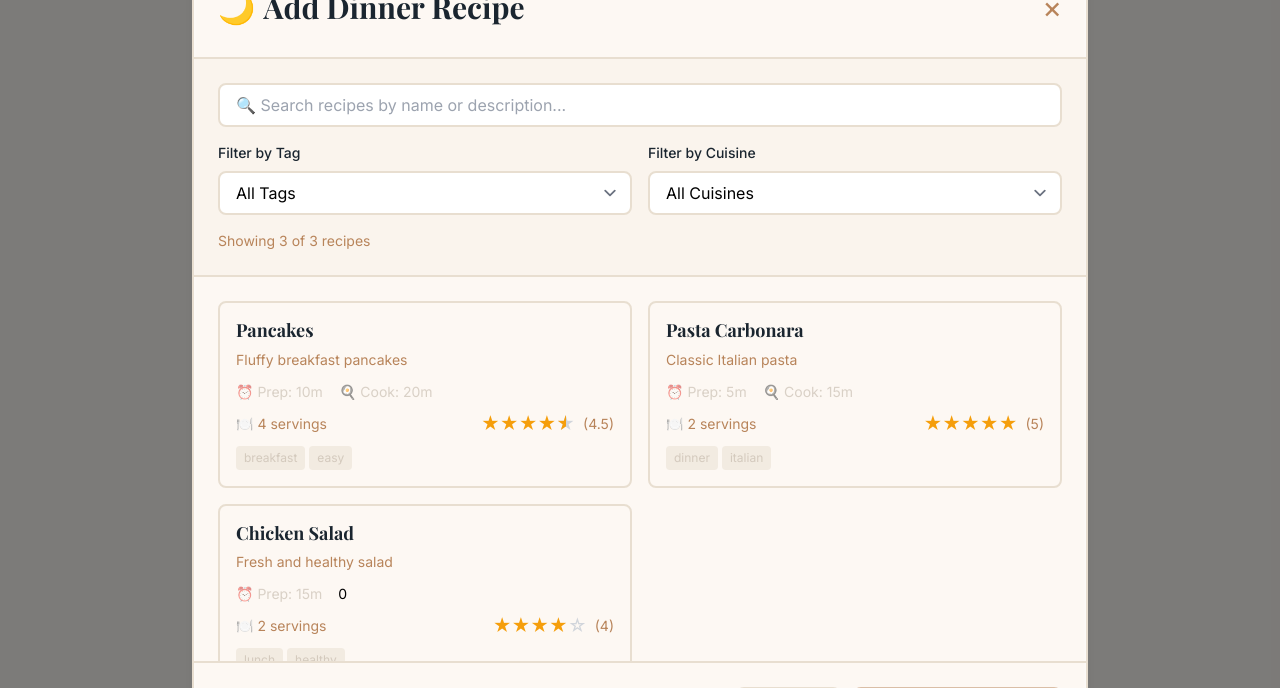
RecipeSelectorModal › clears filters when clear button is clicked
Apply filters
Type "pasta" into the field with placeholder "🔍 Search recipes by name or description..." at (640, 105), box [218, 83, 1062, 127]
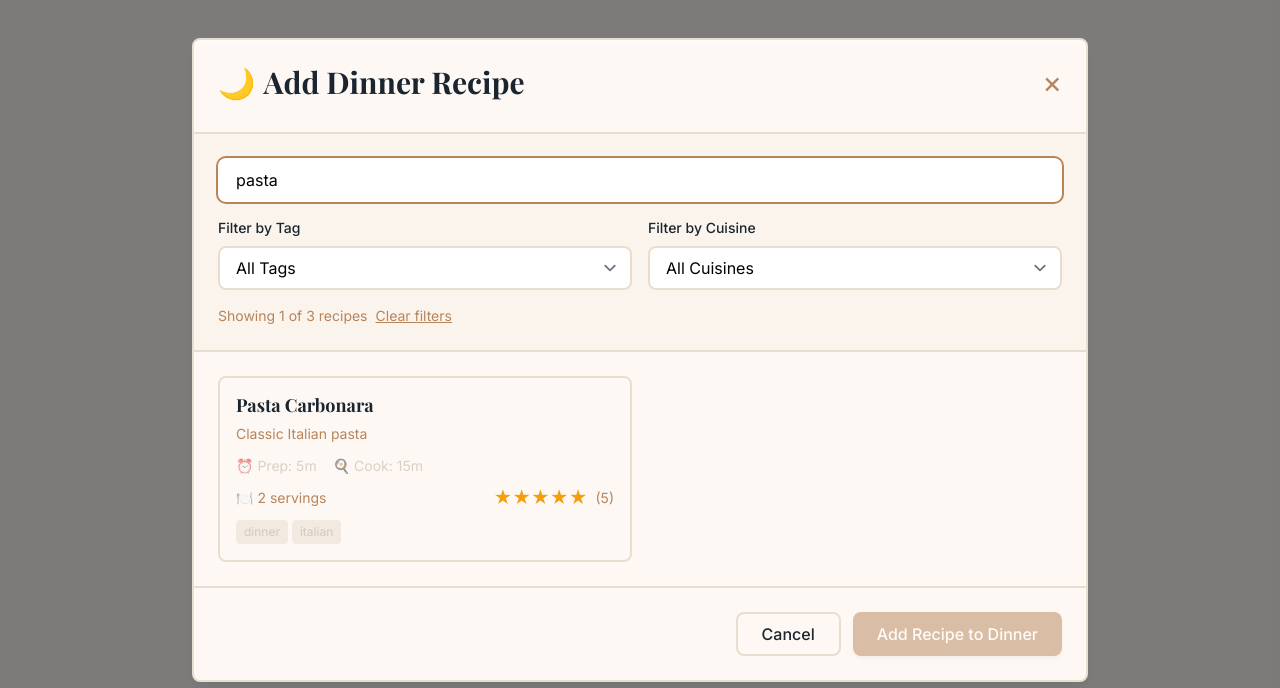
Clear filters
Click the button "Clear filters" at (414, 316), box [376, 306, 452, 326]
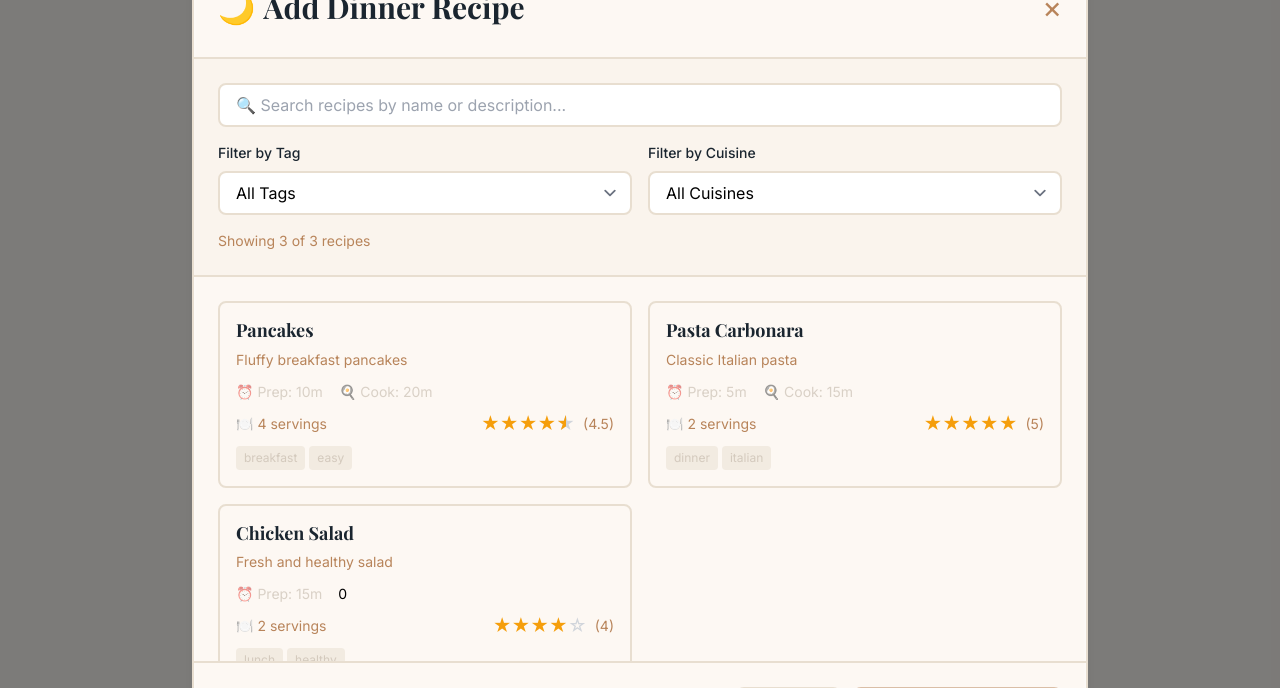
Expected: the heading "Pasta Carbonara" is shown, [666, 318, 804, 342]
Expected: the heading "Pancakes" is shown, [236, 318, 314, 342]
Expected: the heading "Chicken Salad" is shown, [236, 520, 354, 544]
